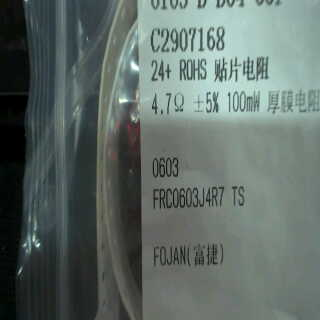4.7R: (146, 90, 188, 120)
